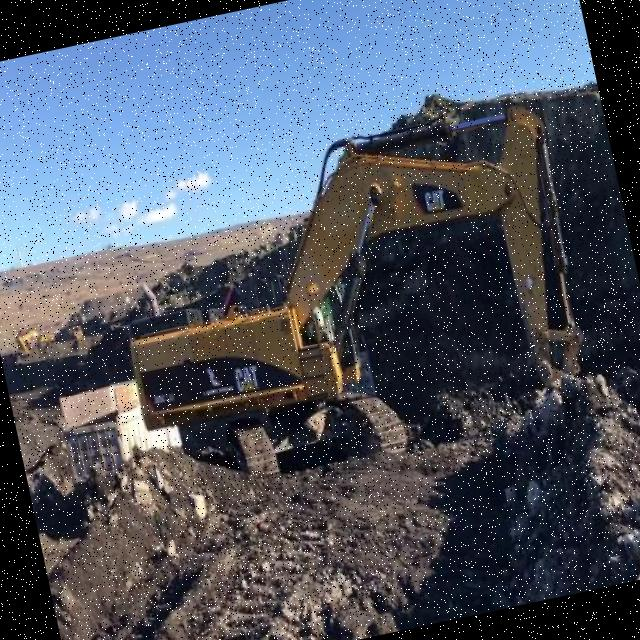Dump Truck: (50, 368, 186, 492)
Excavator: (89, 90, 620, 566)
